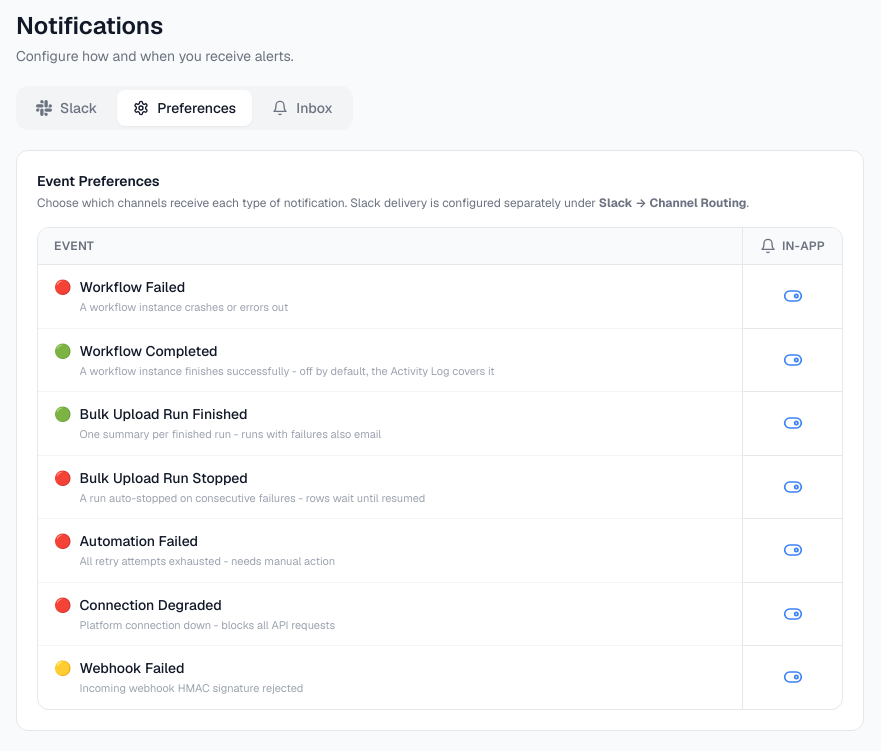
InboxTab › filters out dismissed notifications
Click the button "Inbox" at (302, 108), box [256,90,349,126]
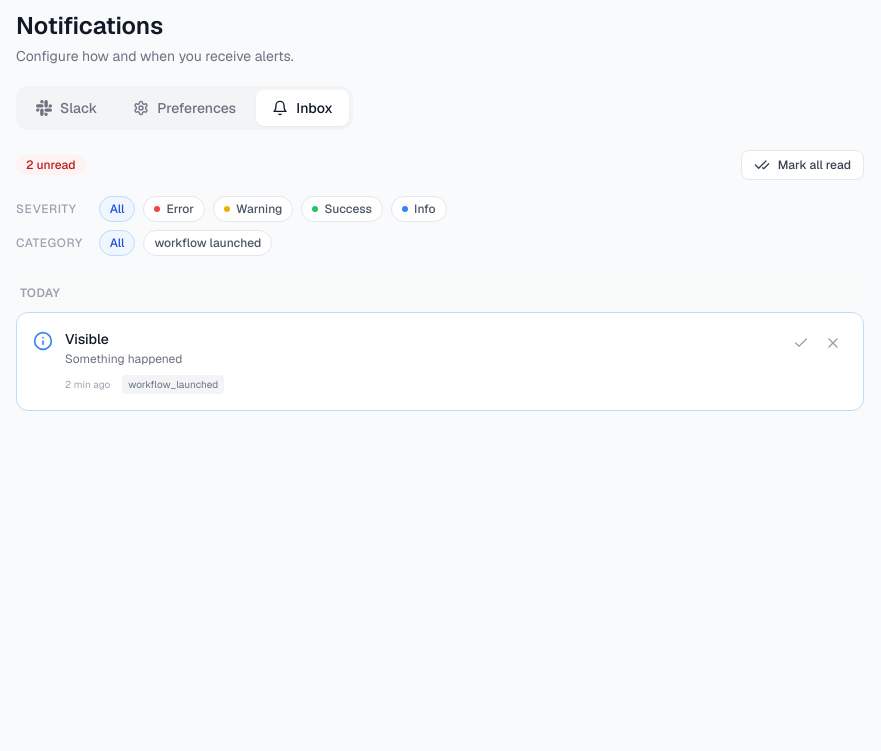
Check: the text "Visible" is shown, box [65,330,109,348]
